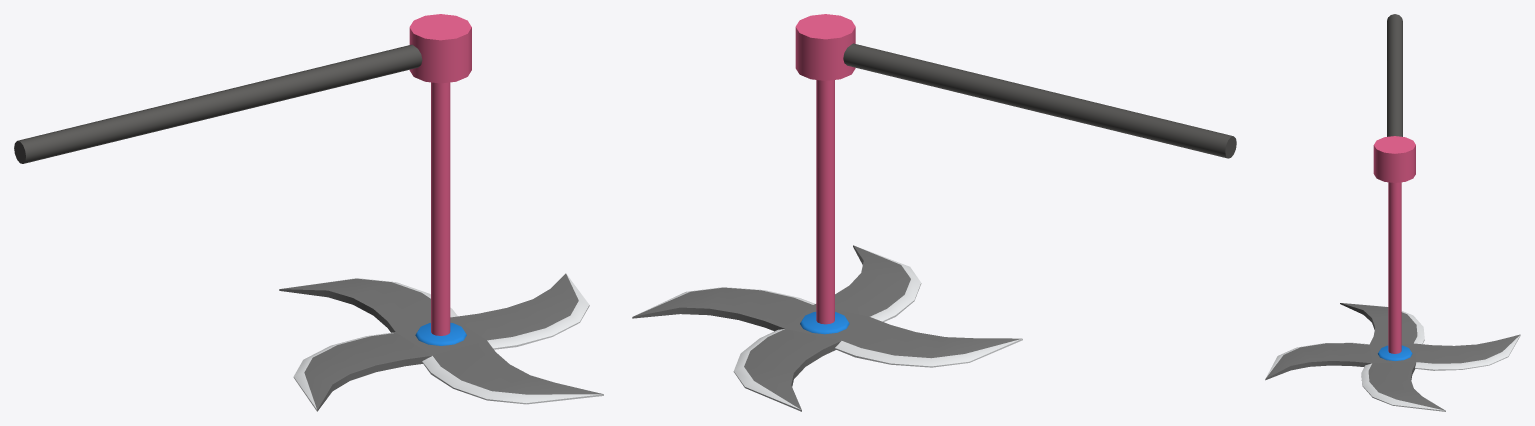
The model's file is trap_09.fbx.
3 views of the same model, side by side, from view 1: azimuth 30°, elevation 25°; view 2: azimuth 150°, elevation 25°; view 3: azimuth 270°, elevation 25° (orthographic). The views are drawn at different scales.
Visible parts, largest first — view 1: trap_09_fan, trap_09; view 2: trap_09_fan, trap_09; view 3: trap_09_fan, trap_09.
Boxes of the visible parts, <box> form: trap_09_fan: <box>279,82,603,411</box>; trap_09: <box>14,14,471,163</box>; trap_09_fan: <box>632,80,1022,411</box>; trap_09: <box>795,14,1236,158</box>; trap_09_fan: <box>1265,182,1520,411</box>; trap_09: <box>1373,14,1415,182</box>.
Bounding box in the file's own units: 2147 × 1127 × 1203.
